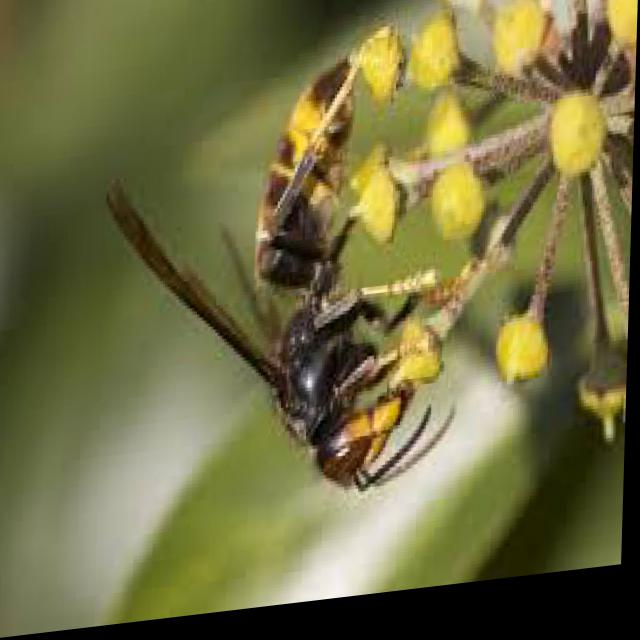Vespa Velutina: (91, 35, 474, 540)
